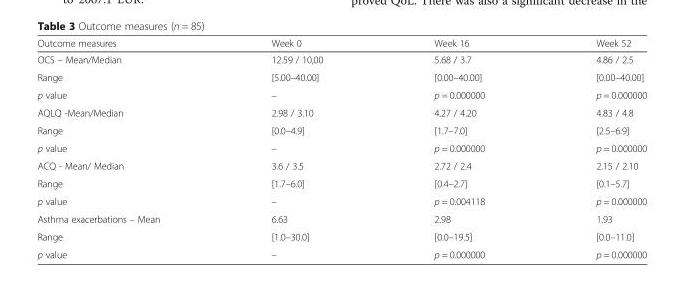table: (36, 37, 646, 259)
table column: (36, 37, 215, 259), (215, 37, 377, 259), (377, 37, 539, 259), (539, 37, 646, 259)
table column header: (36, 37, 646, 50)
table row: (36, 50, 646, 68), (36, 85, 646, 103), (36, 103, 646, 121), (36, 138, 646, 156), (36, 156, 646, 174), (36, 174, 646, 192), (36, 209, 646, 227), (36, 227, 646, 245), (36, 68, 646, 85), (36, 121, 646, 138), (36, 192, 646, 209), (36, 245, 646, 259), (36, 37, 646, 50)
